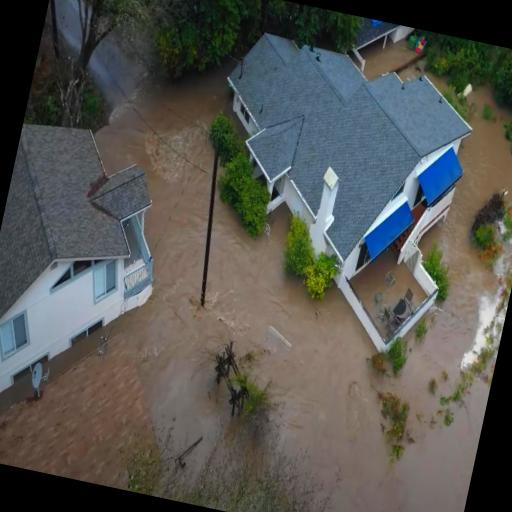flood: (0, 57, 512, 512), (362, 38, 424, 79), (428, 72, 460, 103)
house: (174, 24, 490, 370), (0, 110, 183, 449)
